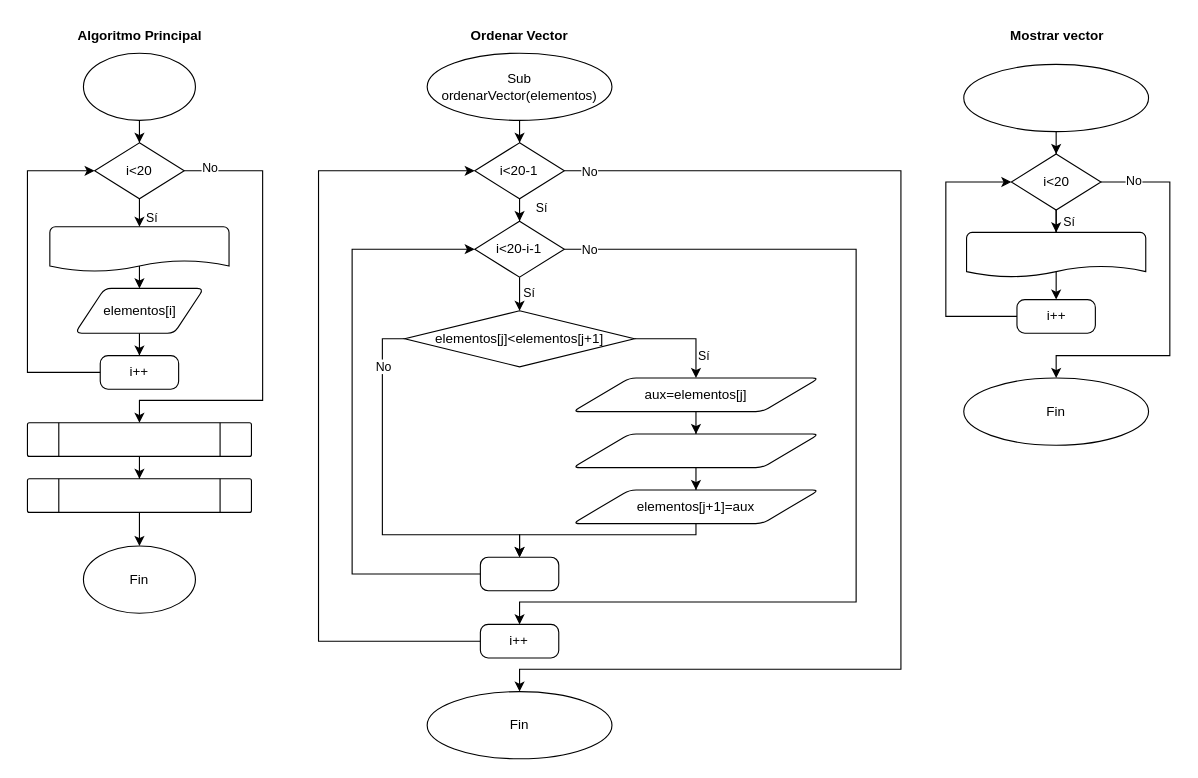
Image size: 1198x778. Some labels were removed from this diagram. Each missing label, with the centre of its shape:
"Ingresa el numero ", i+1, ": ": (139,249)
"vec[", i, "]: ", elementos[i]: (1055,254)
elementos[j]=elementos[j+1]: (695,450)
Inicio: (138,86)
j++: (519,573)
mostrarVector(elementos): (138,495)
ordenarVector(elementos): (138,439)
Sub mostrarVector(elementos): (1056,97)
